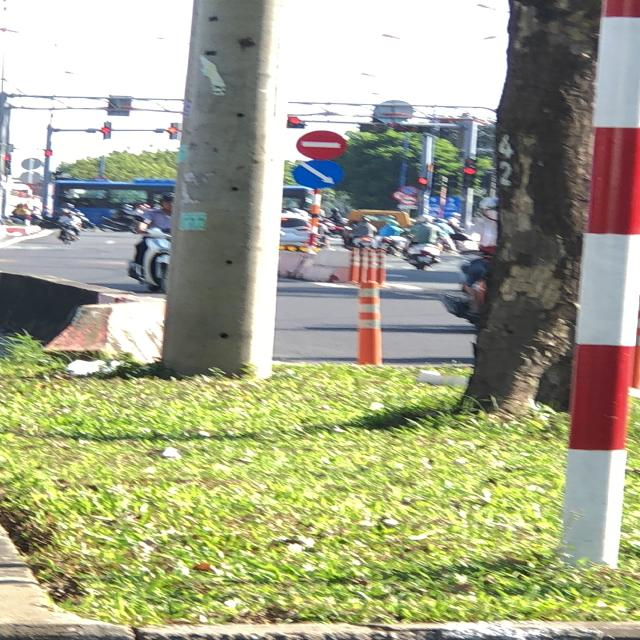Bien bao cam di nguoc chieu: (296, 126, 356, 159)
Bien bao huong phai di vong chuong ngai vat: (288, 158, 344, 190)
